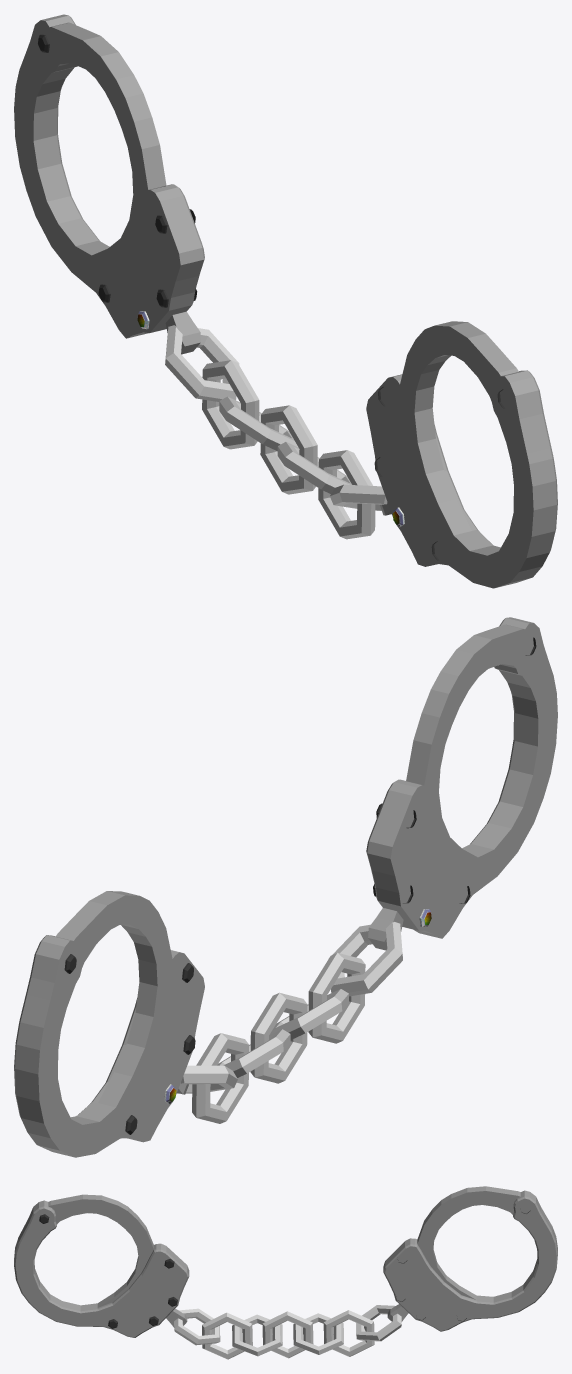
Rendered from menotte.obj.
3 views of the same model, one above another, from view 1: azimuth 30°, elevation 25°; view 2: azimuth 150°, elevation 25°; view 3: azimuth 270°, elevation 25° (orthographic). The views are drawn at different scales.
Parts seen in each view (by area): view 1: Plane; view 2: Plane; view 3: Plane.
Boxes of the visible parts, x1=… form: Plane: x1=14, y1=14, x2=557, y2=588; Plane: x1=14, y1=617, x2=557, y2=1157; Plane: x1=14, y1=1186, x2=557, y2=1359.
Size of the model in its own units: 0.0802 by 0.3381 by 0.9862.
Materials: 1 (1 with a texture image).
